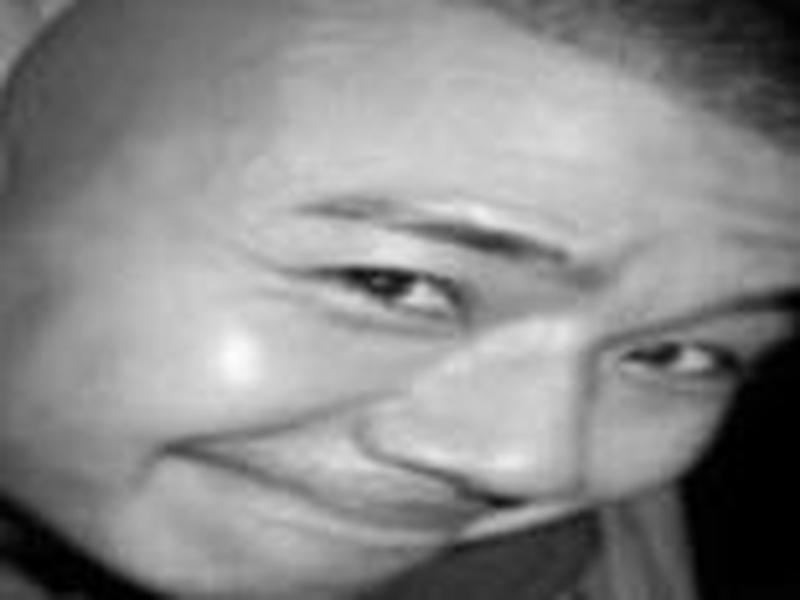without_mask: (6, 6, 800, 600)
